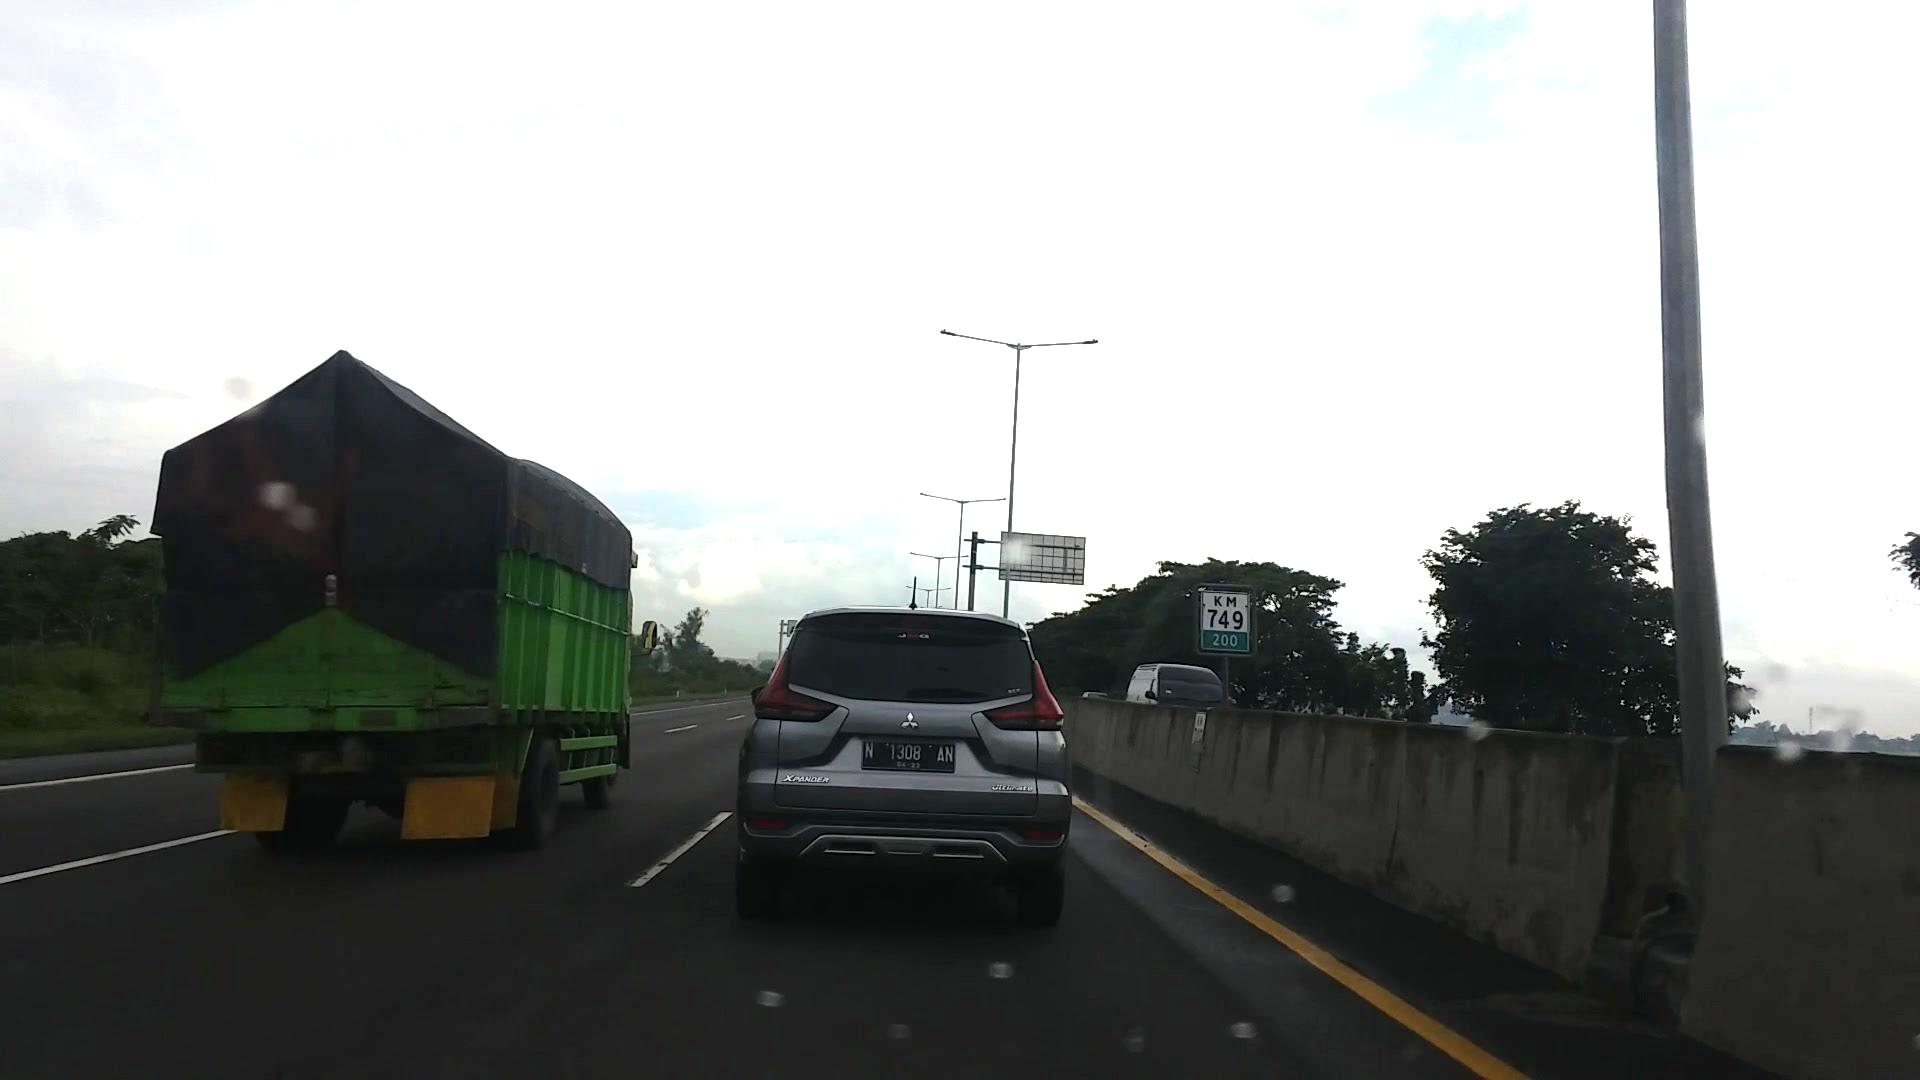plate_positive: (861, 738, 956, 773)
